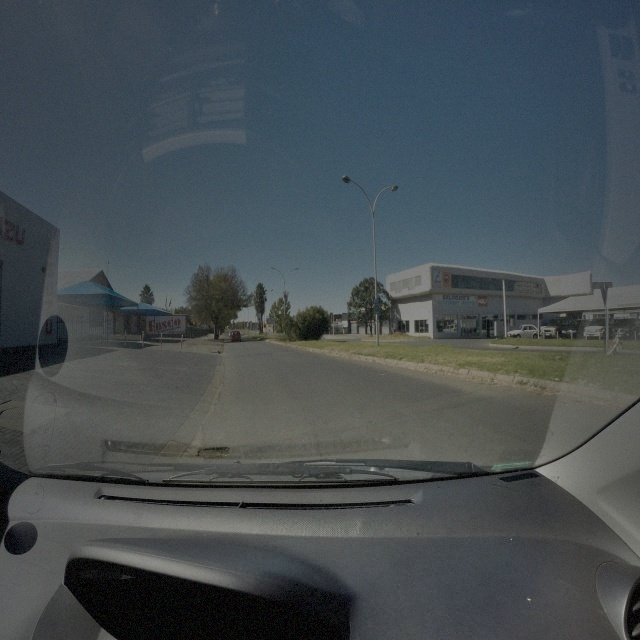pothole: (197, 443, 230, 462)
